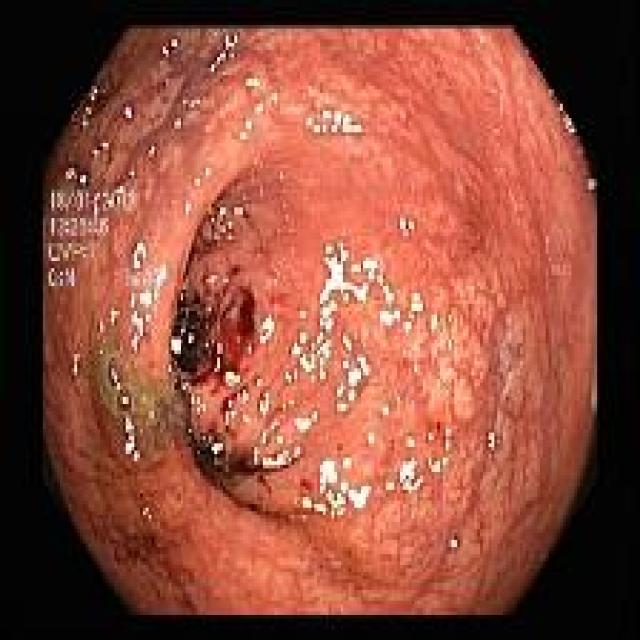ulcerative-colitis: (69, 54, 569, 599)
